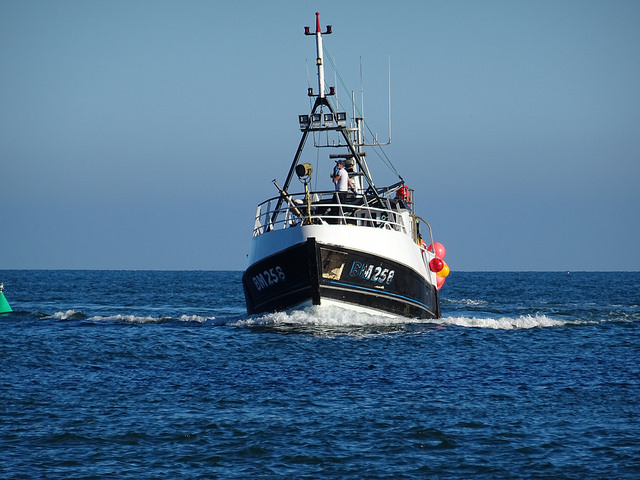fishing_boat: (235, 16, 455, 324)
